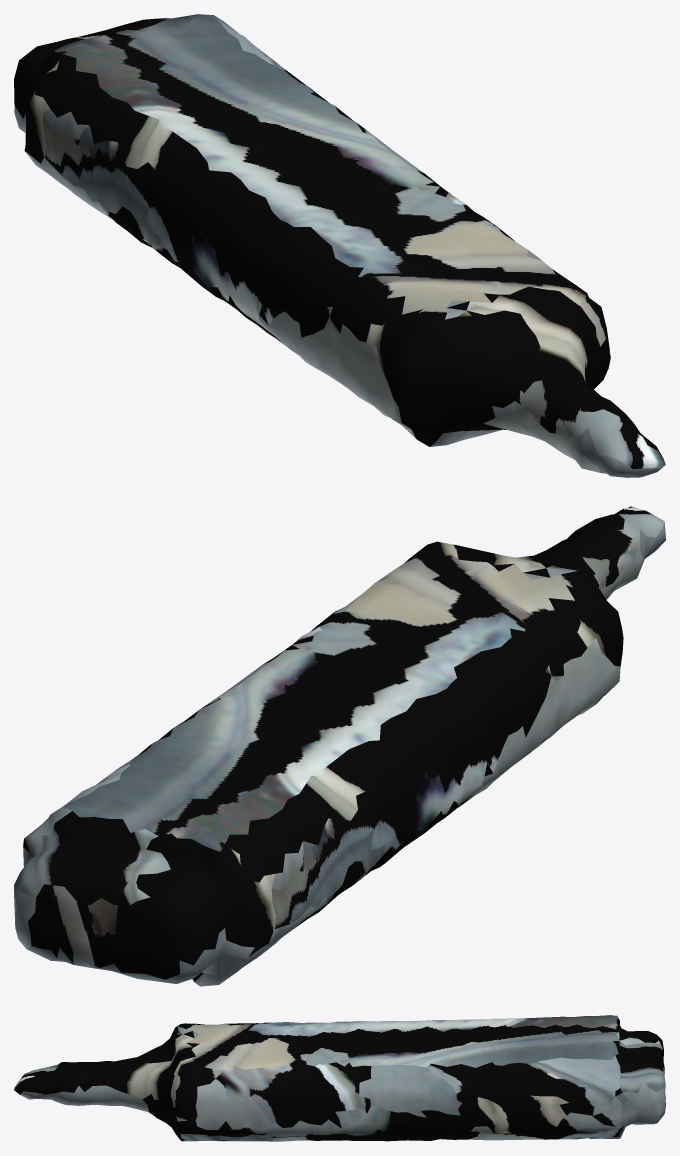
File: scan_align.obj
3 renders of one model, top to bottom at view 1: azimuth 30°, elevation 25°; view 2: azimuth 150°, elevation 25°; view 3: azimuth 270°, elevation 25°, orthographic. The views are drawn at different scales.
Size of the model in its own units: 0.0255 by 0.0156 by 0.1086.
